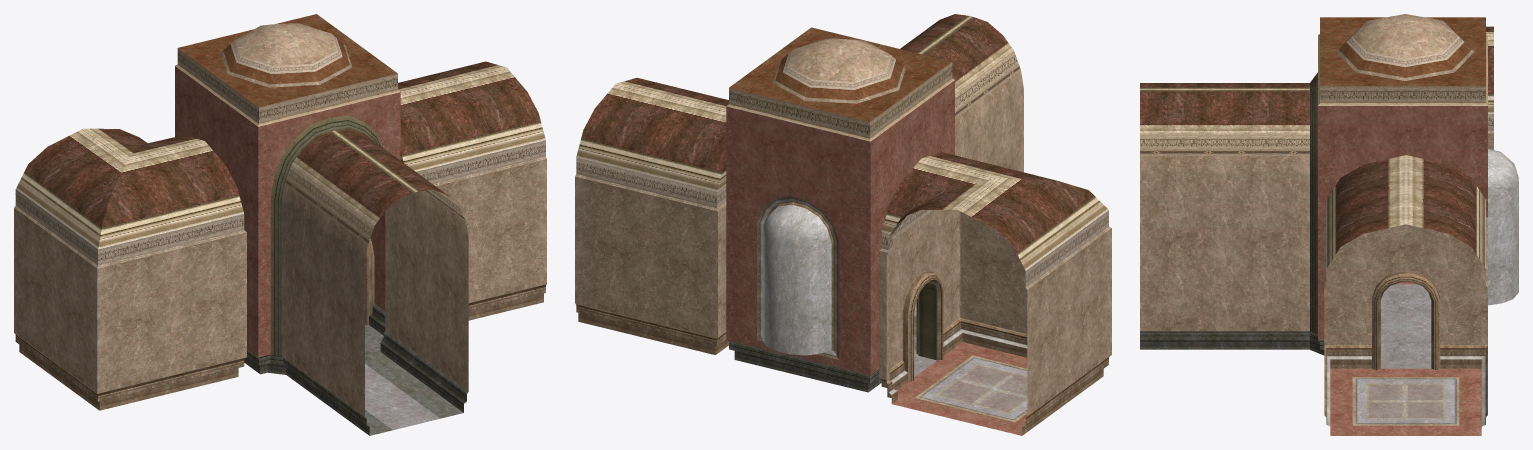
The model's file is thm_nboo_thed_theed_palace_r30_mesh_30.fbx.
3 renders of one model, left to right at view 1: azimuth 30°, elevation 25°; view 2: azimuth 150°, elevation 25°; view 3: azimuth 270°, elevation 25°, orthographic.
Parts seen in each view (by area): view 1: mesh_node; view 2: mesh_node; view 3: mesh_node.
Boxes of the visible parts, left/top/right/bottom form: mesh_node: left=14, top=14, right=546, bottom=435; mesh_node: left=575, top=14, right=1111, bottom=435; mesh_node: left=1140, top=14, right=1518, bottom=435.
Size of the model in its own units: 25.85 by 16.38 by 18.52.
